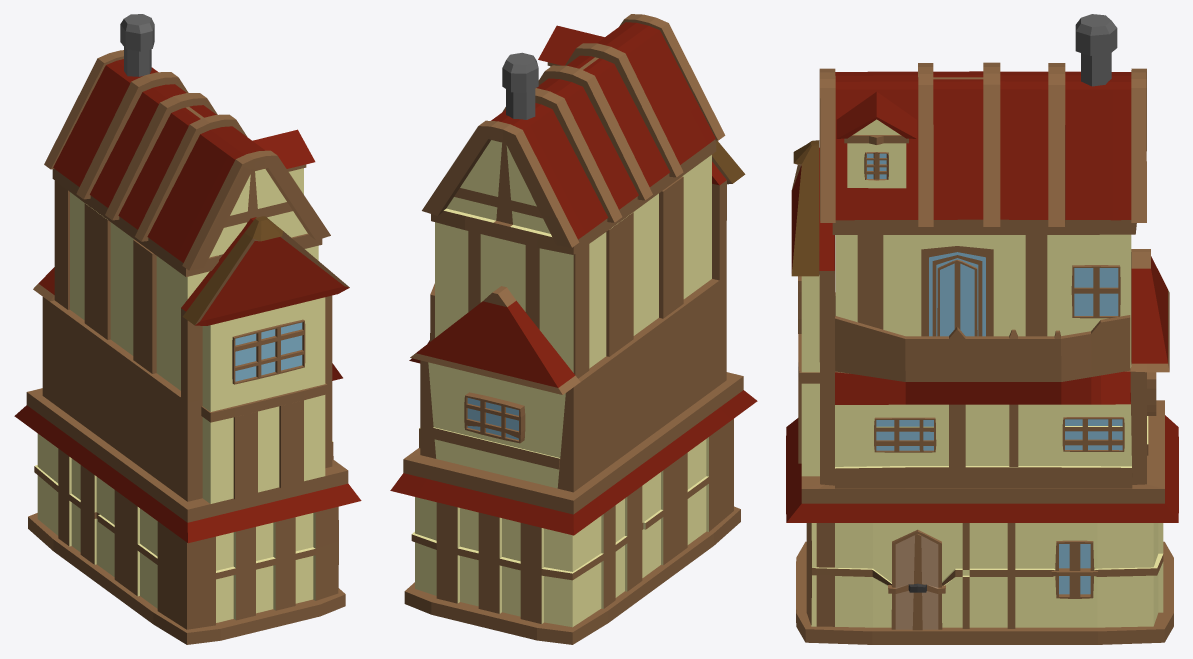
Rendered from Building_LV4_Shop_Red.fbx.
3 views of the same model, side by side, from view 1: azimuth 30°, elevation 25°; view 2: azimuth 150°, elevation 25°; view 3: azimuth 270°, elevation 25° (orthographic). The views are drawn at different scales.
Parts seen in each view (by area): view 1: LV4_Red; view 2: LV4_Red; view 3: LV4_Red.
Part boxes in pixels (left/top/right/bottom): LV4_Red: left=14, top=14, right=361, bottom=644; LV4_Red: left=390, top=14, right=757, bottom=644; LV4_Red: left=786, top=14, right=1178, bottom=644.
Size of the model in its own units: 220 by 609 by 375.
Materials: 1 (1 with a texture image).
